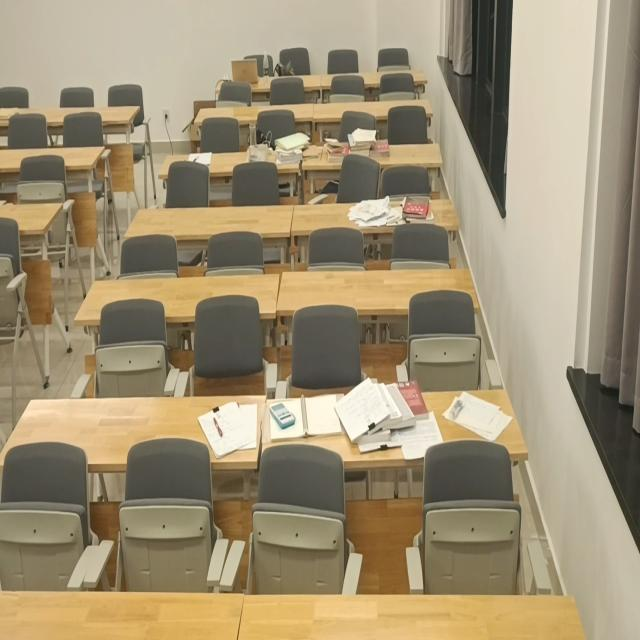Non-empty: (263, 389, 529, 462), (1, 398, 267, 465), (292, 198, 458, 234), (159, 146, 308, 180), (301, 141, 444, 172), (219, 71, 322, 91)
empty: (239, 595, 589, 639), (0, 586, 245, 640), (75, 265, 281, 323), (277, 269, 479, 313), (122, 204, 292, 232), (2, 104, 141, 126), (1, 146, 104, 174)
